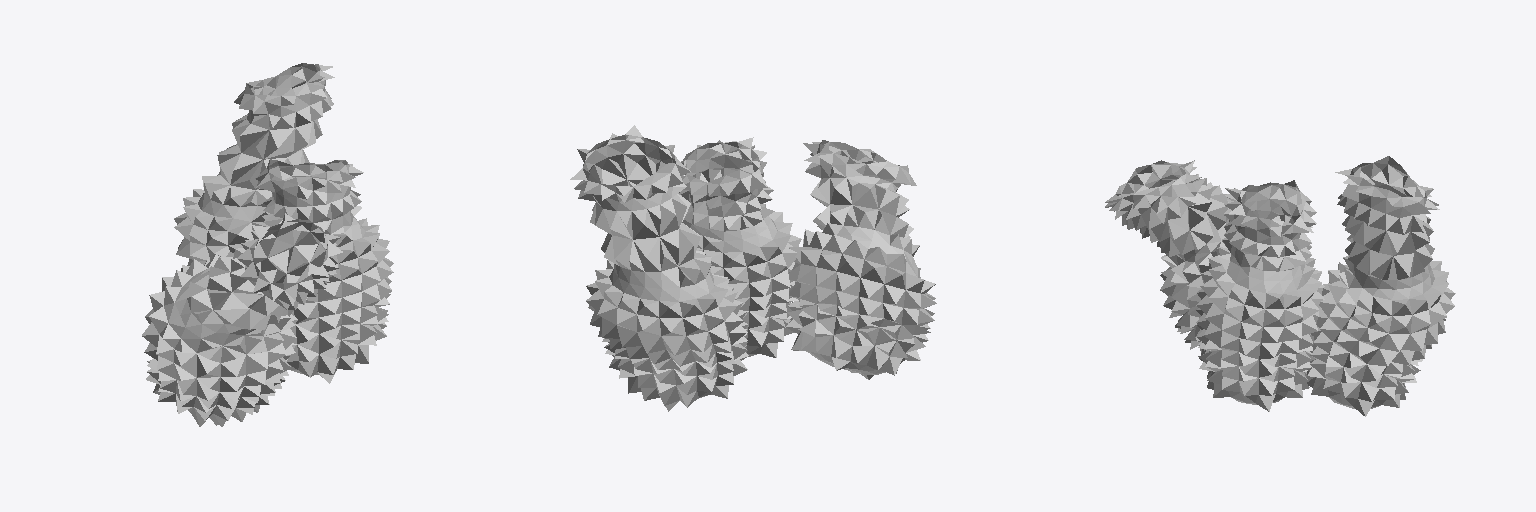
The model's file is coral2.obj.
3 renders of one model, left to right at view 1: azimuth 30°, elevation 25°; view 2: azimuth 150°, elevation 25°; view 3: azimuth 270°, elevation 25°, orthographic.
Parts seen in each view (by area): view 1: Sphere; view 2: Sphere; view 3: Sphere.
Part boxes in pixels (bbox=[...]): Sphere: bbox=[142, 63, 393, 426]; Sphere: bbox=[570, 125, 936, 411]; Sphere: bbox=[1105, 156, 1455, 416].
Bounding box in the file's own units: 5.18 × 4.79 × 5.86.